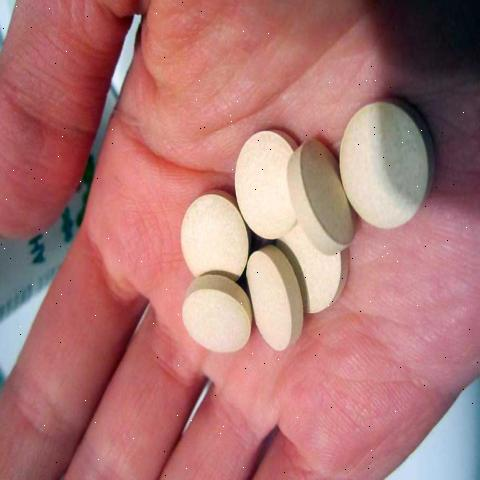Pill: (337, 97, 445, 230), (172, 270, 258, 372), (232, 118, 297, 245), (286, 133, 354, 251), (246, 246, 305, 367)
